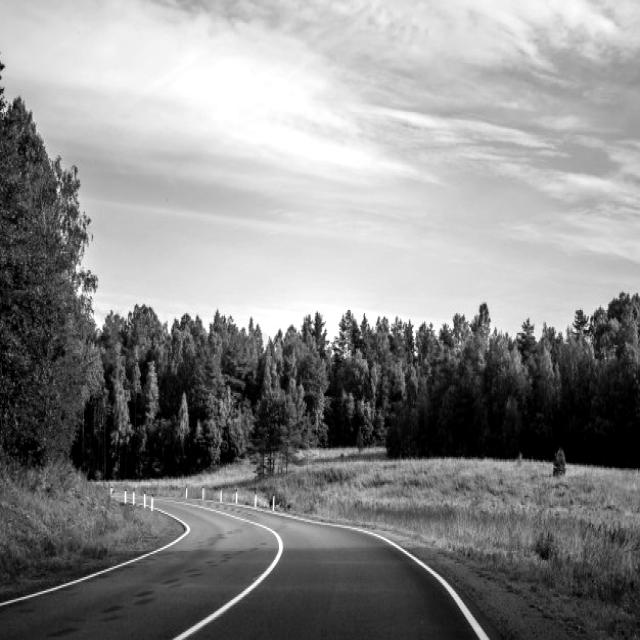cleat: (54, 435, 475, 640)
